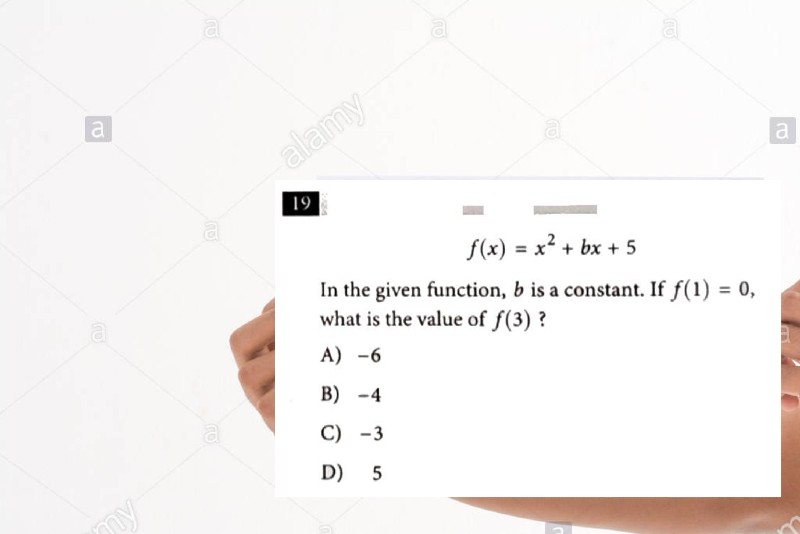questionPaper: (280, 183, 780, 498)
